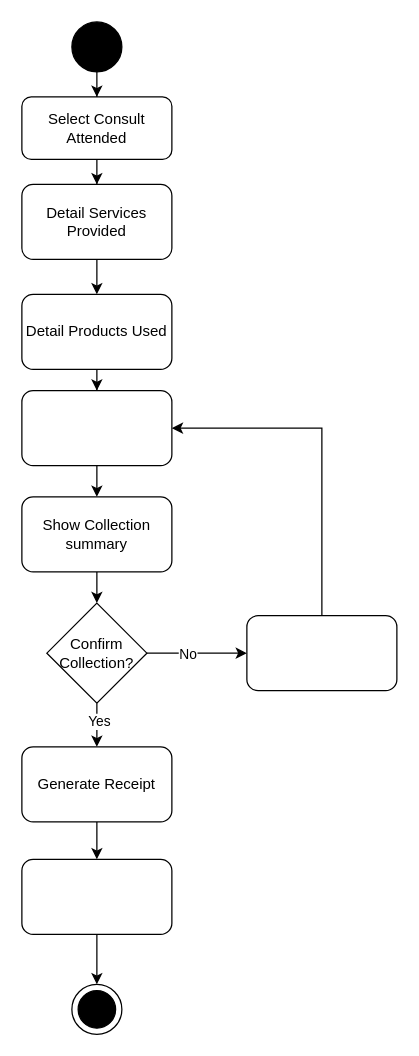
The diagram is 419 pixels wide and 1056 high, and some of its shapes have lost their labels. Each missing label, with the centre of its shape:
Calculate Total Amount: the point at 96,427
Edit Details of Services and Products: the point at 321,652
Register Payment and Update Query Status: the point at 96,896
